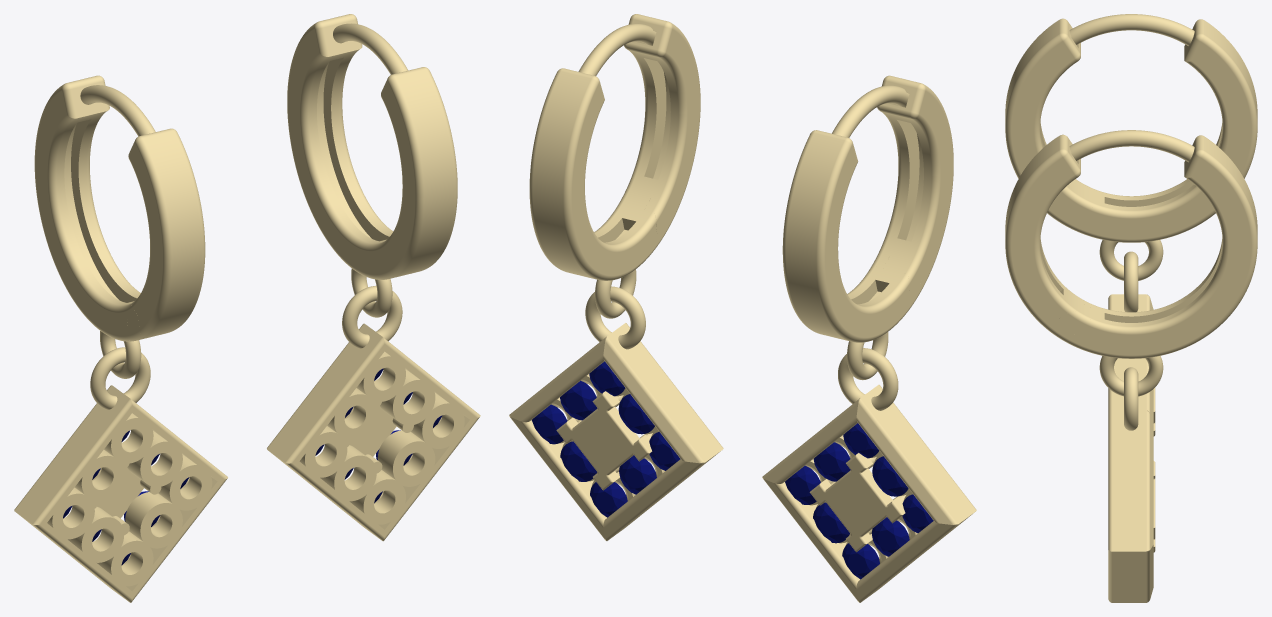
The picture shows the model from 3 angles, left to right: view 1: azimuth 30°, elevation 25°; view 2: azimuth 150°, elevation 25°; view 3: azimuth 270°, elevation 25°; orthographic projection. The views are drawn at different scales.
Parts seen in each view (by area): view 1: Creation Curves(1D23BCAF-72FF-474C-AD01-A9213F17DB40), Creation Curves(8599F405-09A0-493C-85FC-33885D3BC980), Creation Curves(8CC5E53B-12F7-4423-9189-5EBEF039A4BD), Creation Curves(4FF22D8F-C06E-49B9-BE30-D5D805DA5851), Creation Curves(29FD600C-A316-4A04-8BD8-7778610E5DEA), Creation Curves(99F14F00-D759-4E67-B7B7-CCA588151754), Bezel(91F2A567-119F-4B83-A300-B2A5991C4CED), Bezel(5C1439F5-7B95-4BE5-AC8E-4CF111605F00), Creation Curves(D06BCB23-2AAF-40B2-AB49-67F283013C69), Creation Curves(4E592DD9-622F-493D-A16A-F109EF926883), Bezel(E4038EC5-CE8E-4C50-ADC5-C882EA2E6169), Bezel(4946D103-1400-4B16-99BE-A29D9E822452) (+18 smaller); view 2: Creation Curves(1D23BCAF-72FF-474C-AD01-A9213F17DB40), Creation Curves(8599F405-09A0-493C-85FC-33885D3BC980), Diamond_Round(44F64F1B-52D7-4588-BD00-1A5242B2ACEF) (×16), Creation Curves(29FD600C-A316-4A04-8BD8-7778610E5DEA), Creation Curves(99F14F00-D759-4E67-B7B7-CCA588151754), Creation Curves(8CC5E53B-12F7-4423-9189-5EBEF039A4BD), Creation Curves(4FF22D8F-C06E-49B9-BE30-D5D805DA5851), Creation Curves(B020F23F-A87F-4C37-A229-CACAB429974B), Creation Curves(A6898E5F-669A-47F4-BC08-31DDDD7C3ADC), Creation Curves(D06BCB23-2AAF-40B2-AB49-67F283013C69), Creation Curves(4E592DD9-622F-493D-A16A-F109EF926883), Creation Curves(5CC6474F-D056-4A02-BB08-470B72C20C7E) (+5 smaller); view 3: Creation Curves(8599F405-09A0-493C-85FC-33885D3BC980), Creation Curves(1D23BCAF-72FF-474C-AD01-A9213F17DB40), Creation Curves(29FD600C-A316-4A04-8BD8-7778610E5DEA), Creation Curves(8CC5E53B-12F7-4423-9189-5EBEF039A4BD), Creation Curves(4FF22D8F-C06E-49B9-BE30-D5D805DA5851), Creation Curves(0CA8898F-7C35-46F3-9D6E-206214FE5466), Creation Curves(5CC6474F-D056-4A02-BB08-470B72C20C7E), Creation Curves(99F14F00-D759-4E67-B7B7-CCA588151754), Creation Curves(9EB49015-B89C-4438-B187-2C9BE6152966), Creation Curves(D7AA777A-21C8-4CAB-8901-143F48DDDA51), Creation Curves(0992B57F-7001-403F-9290-8FDF2C8A7A5F), Creation Curves(040F4B12-58B2-4D08-A998-3D948B0EEDC5) (+2 smaller).
Part boxes in pixels (x1=…): Creation Curves(1D23BCAF-72FF-474C-AD01-A9213F17DB40): x1=34, y1=75, x2=140, y2=341; Creation Curves(8599F405-09A0-493C-85FC-33885D3BC980): x1=287, y1=14, x2=393, y2=279; Creation Curves(8CC5E53B-12F7-4423-9189-5EBEF039A4BD): x1=381, y1=67, x2=457, y2=275; Creation Curves(4FF22D8F-C06E-49B9-BE30-D5D805DA5851): x1=128, y1=128, x2=205, y2=337; Creation Curves(29FD600C-A316-4A04-8BD8-7778610E5DEA): x1=267, y1=323, x2=480, y2=541; Creation Curves(99F14F00-D759-4E67-B7B7-CCA588151754): x1=14, y1=385, x2=227, y2=602; Bezel(91F2A567-119F-4B83-A300-B2A5991C4CED): x1=377, y1=430, x2=435, y2=486; Bezel(5C1439F5-7B95-4BE5-AC8E-4CF111605F00): x1=125, y1=492, x2=182, y2=548; Creation Curves(D06BCB23-2AAF-40B2-AB49-67F283013C69): x1=342, y1=286, x2=402, y2=348; Creation Curves(4E592DD9-622F-493D-A16A-F109EF926883): x1=90, y1=347, x2=150, y2=409; Bezel(E4038EC5-CE8E-4C50-ADC5-C882EA2E6169): x1=127, y1=431, x2=182, y2=486; Bezel(4946D103-1400-4B16-99BE-A29D9E822452): x1=380, y1=369, x2=435, y2=425; Creation Curves(1D23BCAF-72FF-474C-AD01-A9213F17DB40): x1=782, y1=130, x2=915, y2=342; Creation Curves(8599F405-09A0-493C-85FC-33885D3BC980): x1=529, y1=68, x2=662, y2=280; Diamond_Round(44F64F1B-52D7-4588-BD00-1A5242B2ACEF) (×16): x1=531, y1=361, x2=933, y2=579; Creation Curves(29FD600C-A316-4A04-8BD8-7778610E5DEA): x1=509, y1=323, x2=723, y2=540; Creation Curves(99F14F00-D759-4E67-B7B7-CCA588151754): x1=762, y1=384, x2=976, y2=602; Creation Curves(8CC5E53B-12F7-4423-9189-5EBEF039A4BD): x1=624, y1=14, x2=700, y2=216; Creation Curves(4FF22D8F-C06E-49B9-BE30-D5D805DA5851): x1=877, y1=75, x2=953, y2=272; Creation Curves(B020F23F-A87F-4C37-A229-CACAB429974B): x1=809, y1=453, x2=905, y2=552; Creation Curves(A6898E5F-669A-47F4-BC08-31DDDD7C3ADC): x1=556, y1=391, x2=652, y2=490; Creation Curves(D06BCB23-2AAF-40B2-AB49-67F283013C69): x1=585, y1=286, x2=645, y2=349; Creation Curves(4E592DD9-622F-493D-A16A-F109EF926883): x1=838, y1=348, x2=898, y2=410; Creation Curves(5CC6474F-D056-4A02-BB08-470B72C20C7E): x1=578, y1=23, x2=656, y2=75; Creation Curves(8599F405-09A0-493C-85FC-33885D3BC980): x1=1076, y1=135, x2=1257, y2=358; Creation Curves(1D23BCAF-72FF-474C-AD01-A9213F17DB40): x1=1075, y1=19, x2=1257, y2=242; Creation Curves(29FD600C-A316-4A04-8BD8-7778610E5DEA): x1=1108, y1=410, x2=1153, y2=602; Creation Curves(8CC5E53B-12F7-4423-9189-5EBEF039A4BD): x1=1005, y1=134, x2=1080, y2=335; Creation Curves(4FF22D8F-C06E-49B9-BE30-D5D805DA5851): x1=1005, y1=18, x2=1080, y2=220; Creation Curves(0CA8898F-7C35-46F3-9D6E-206214FE5466): x1=1069, y1=14, x2=1194, y2=45; Creation Curves(5CC6474F-D056-4A02-BB08-470B72C20C7E): x1=1069, y1=130, x2=1194, y2=162; Creation Curves(99F14F00-D759-4E67-B7B7-CCA588151754): x1=1108, y1=294, x2=1153, y2=424; Creation Curves(9EB49015-B89C-4438-B187-2C9BE6152966): x1=1099, y1=240, x2=1163, y2=280; Creation Curves(D7AA777A-21C8-4CAB-8901-143F48DDDA51): x1=1099, y1=356, x2=1163, y2=396; Creation Curves(0992B57F-7001-403F-9290-8FDF2C8A7A5F): x1=1054, y1=307, x2=1093, y2=346; Creation Curves(040F4B12-58B2-4D08-A998-3D948B0EEDC5): x1=1054, y1=191, x2=1093, y2=230.
Bounding box in the file's own units: 0.0237 × 0.0254 × 0.0123.
